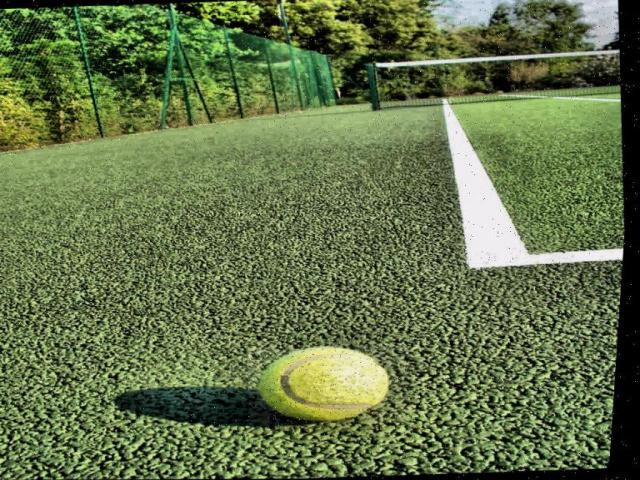tennis-ball: (257, 345, 389, 421)
